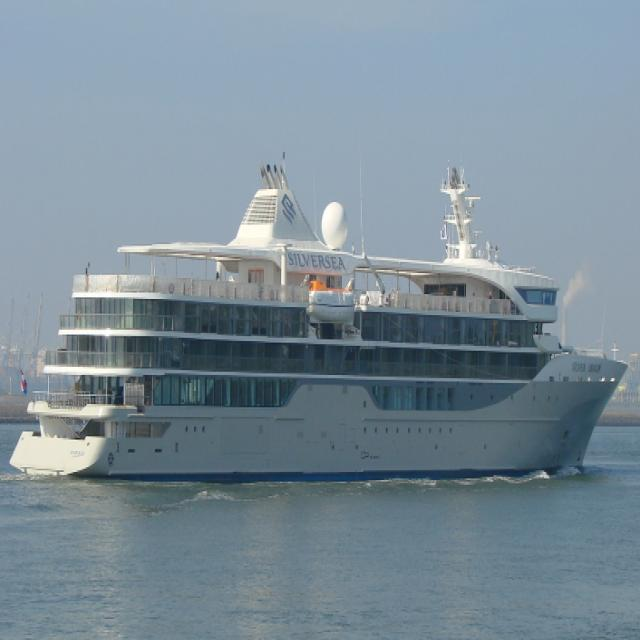cruises: (6, 158, 632, 496)
